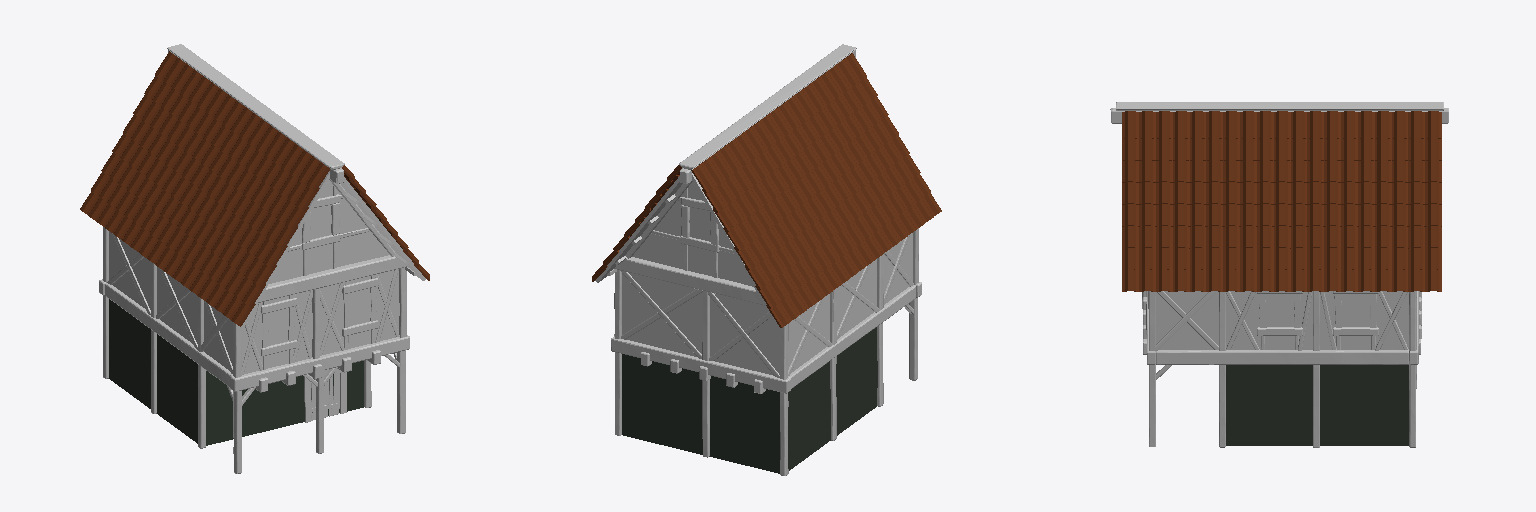
Rendered from House1ExportVersion.obj.
The picture shows the model from 3 angles: view 1: azimuth 30°, elevation 25°; view 2: azimuth 150°, elevation 25°; view 3: azimuth 270°, elevation 25°; orthographic projection.
Visible parts, largest first — view 1: Roof_Plane.002, Wooden_Carcass_Plane.001, Walls_Plane.004, Cobblestone_Foundation_Plane.006, WindowFrames+Door_Cube.020, GlassPanes_Plane.003; view 2: Roof_Plane.002, Wooden_Carcass_Plane.001, Cobblestone_Foundation_Plane.006, Walls_Plane.004, WindowFrames+Door_Cube.020, GlassPanes_Plane.003; view 3: Roof_Plane.002, Wooden_Carcass_Plane.001, Cobblestone_Foundation_Plane.006, Walls_Plane.004, WindowFrames+Door_Cube.020, GlassPanes_Plane.003.
Part boxes in pixels (bbox=[...]): Roof_Plane.002: bbox=[80, 51, 429, 326]; Wooden_Carcass_Plane.001: bbox=[99, 44, 417, 473]; Walls_Plane.004: bbox=[109, 171, 425, 373]; Cobblestone_Foundation_Plane.006: bbox=[109, 299, 363, 445]; WindowFrames+Door_Cube.020: bbox=[261, 194, 377, 422]; GlassPanes_Plane.003: bbox=[268, 205, 370, 345]; Roof_Plane.002: bbox=[592, 53, 941, 327]; Wooden_Carcass_Plane.001: bbox=[607, 44, 921, 475]; Cobblestone_Foundation_Plane.006: bbox=[622, 327, 877, 473]; Walls_Plane.004: bbox=[595, 173, 912, 375]; WindowFrames+Door_Cube.020: bbox=[681, 197, 719, 252]; GlassPanes_Plane.003: bbox=[689, 207, 718, 241]; Roof_Plane.002: bbox=[1122, 111, 1441, 291]; Wooden_Carcass_Plane.001: bbox=[1110, 102, 1448, 447]; Cobblestone_Foundation_Plane.006: bbox=[1226, 365, 1408, 445]; Walls_Plane.004: bbox=[1156, 291, 1408, 349]; WindowFrames+Door_Cube.020: bbox=[1257, 291, 1378, 335]; GlassPanes_Plane.003: bbox=[1265, 294, 1369, 326].
Bounding box in the file's own units: 4.82 × 7.08 × 7.22.